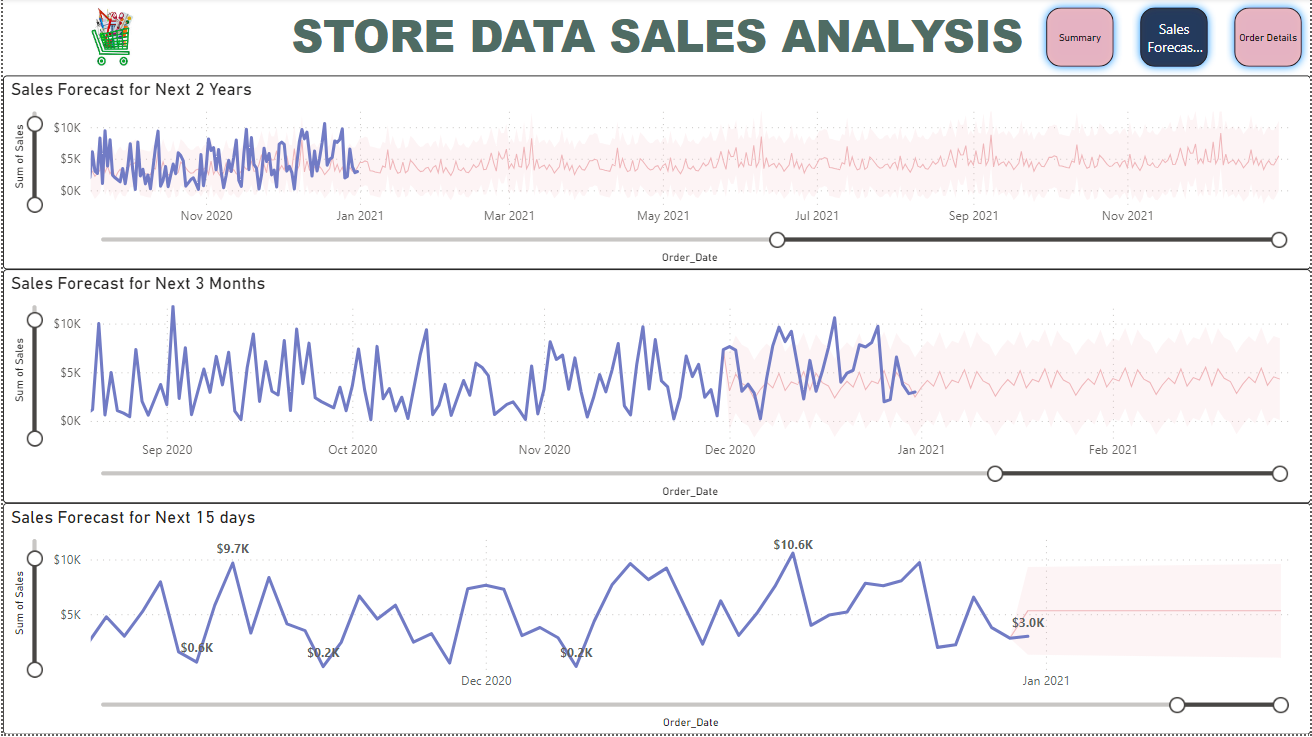

What the dashboard file says about the page in this screenshot:
{"tool":"powerbi","page":{"name":"Sales Forecasting","canvas":[1280,720],"ordinal":1},"visuals":[{"type":"group","id":"g1","title":"Group 1","box":[0,0,1279.6,76],"z":0},{"type":"lineChart","title":"Sales Forecast for Next 15 days","fields":{"Category":["SalesDataset.Order_Date"],"Y":["Sum(SalesDataset.Sales)"]},"box":[0,493.9,1279.9,226.1],"z":1000},{"type":"lineChart","title":"Sales Forecast for Next 3 Months","fields":{"Y":["Sum(SalesDataset.Sales)"],"Category":["SalesDataset.Order_Date"]},"box":[0,265.3,1279.9,228.6],"z":2000},{"type":"lineChart","title":"Sales Forecast for Next 2 Years","fields":{"Y":["Sum(SalesDataset.Sales)"],"Category":["SalesDataset.Order_Date"]},"box":[0,75.8,1279.9,189.5],"z":3000},{"type":"textbox","box":[0,1.2,1279.6,74.8],"z":14500,"group":"g1"},{"type":"image","box":[0,0,213.5,76],"z":16000,"group":"g1"},{"type":"pageNavigator","box":[1011.9,1.2,267.7,74.8],"z":16500,"group":"g1"}]}

Visuals, with their boxes in screenshot pixels (x1, y1, x2, y2), scaled from the page's 1280x720 canvas onto the 1312x737 screenshot:
"Group 1" group: bbox=[0, 0, 1311, 78]
"Sales Forecast for Next 15 days" lineChart: bbox=[0, 506, 1311, 736]
"Sales Forecast for Next 3 Months" lineChart: bbox=[0, 272, 1311, 506]
"Sales Forecast for Next 2 Years" lineChart: bbox=[0, 78, 1311, 272]
textbox: bbox=[0, 1, 1311, 78]
image: bbox=[0, 0, 219, 78]
pageNavigator: bbox=[1037, 1, 1311, 78]
